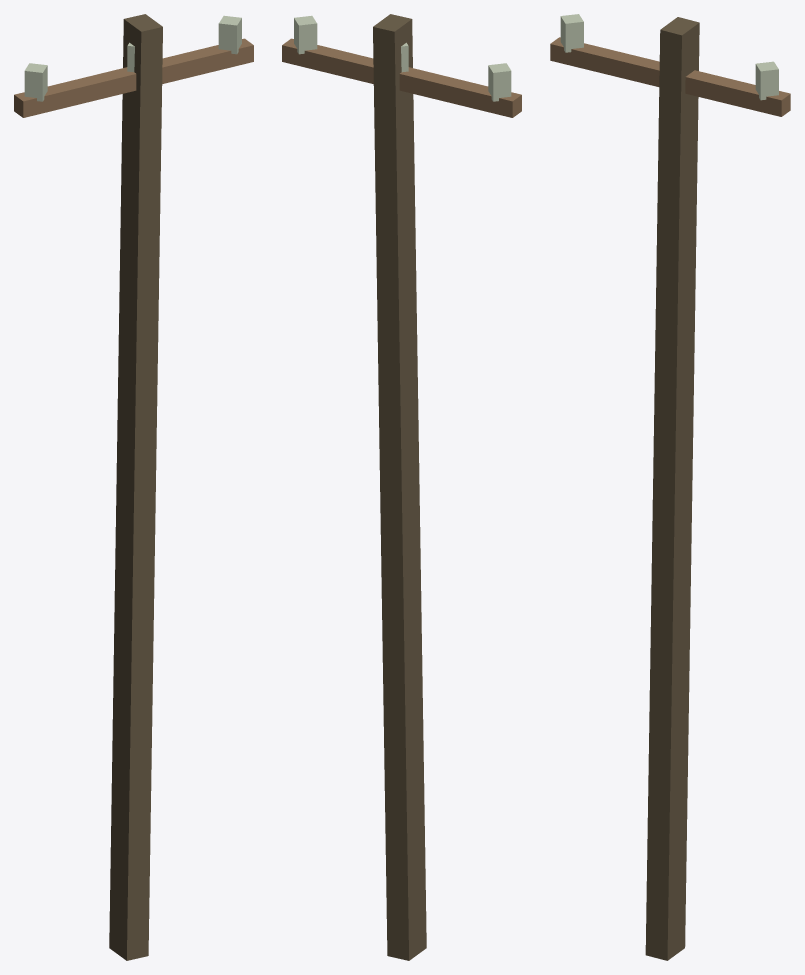
File: ua_village_wood_pole.obj
3 renders of one model, left to right at view 1: azimuth 30°, elevation 25°; view 2: azimuth 150°, elevation 25°; view 3: azimuth 330°, elevation 25°, orthographic.
Parts seen in each view (by area): view 1: ua_village_wood_pole; view 2: ua_village_wood_pole; view 3: ua_village_wood_pole.
Boxes of the visible parts, x1=… form: ua_village_wood_pole: x1=14, y1=14, x2=253, y2=960; ua_village_wood_pole: x1=282, y1=14, x2=521, y2=960; ua_village_wood_pole: x1=550, y1=14, x2=790, y2=960.
Size of the model in its own units: 1.59 by 6.1 by 0.21.
